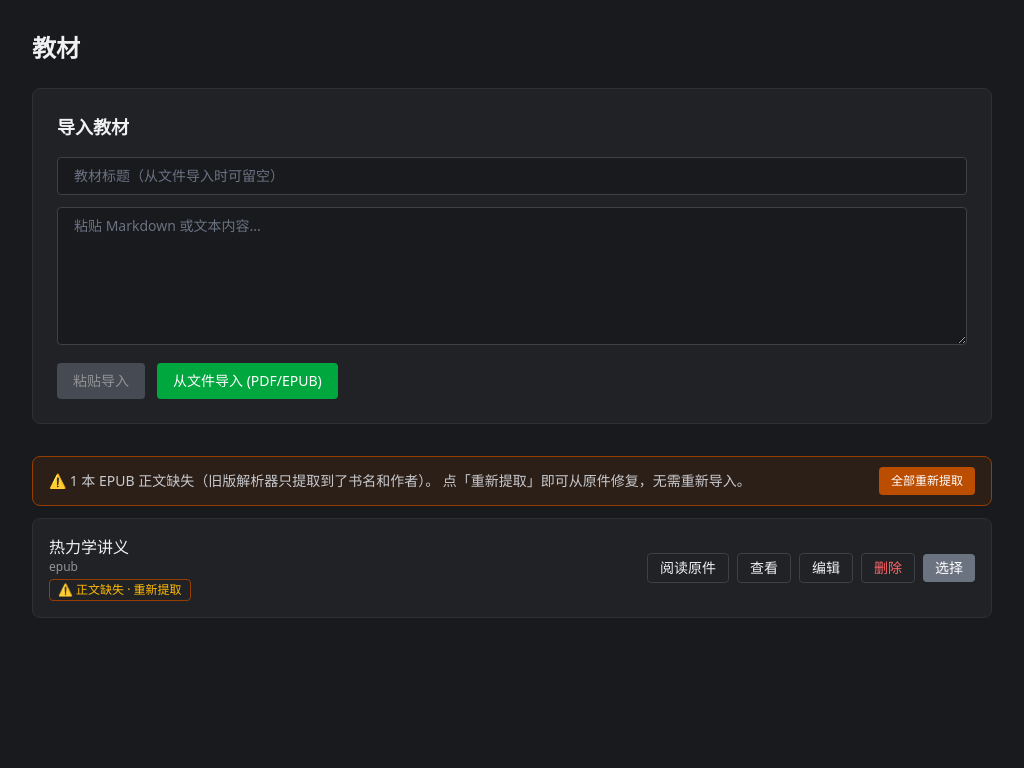
Test: TextbooksView — EPUB repair › flags missing EPUB bodies and repairs one on demand
Expected: the text "⚠️ 1 本 EPUB 正文缺失（旧版解析器只提取到了书名和作者）。 点「重新提取」即可从原件修复，无需重新导入。" is shown, [49, 471, 751, 491]
Click the button "⚠️ 正文缺失 · 重新提取": (120, 590) [49, 579, 191, 601]
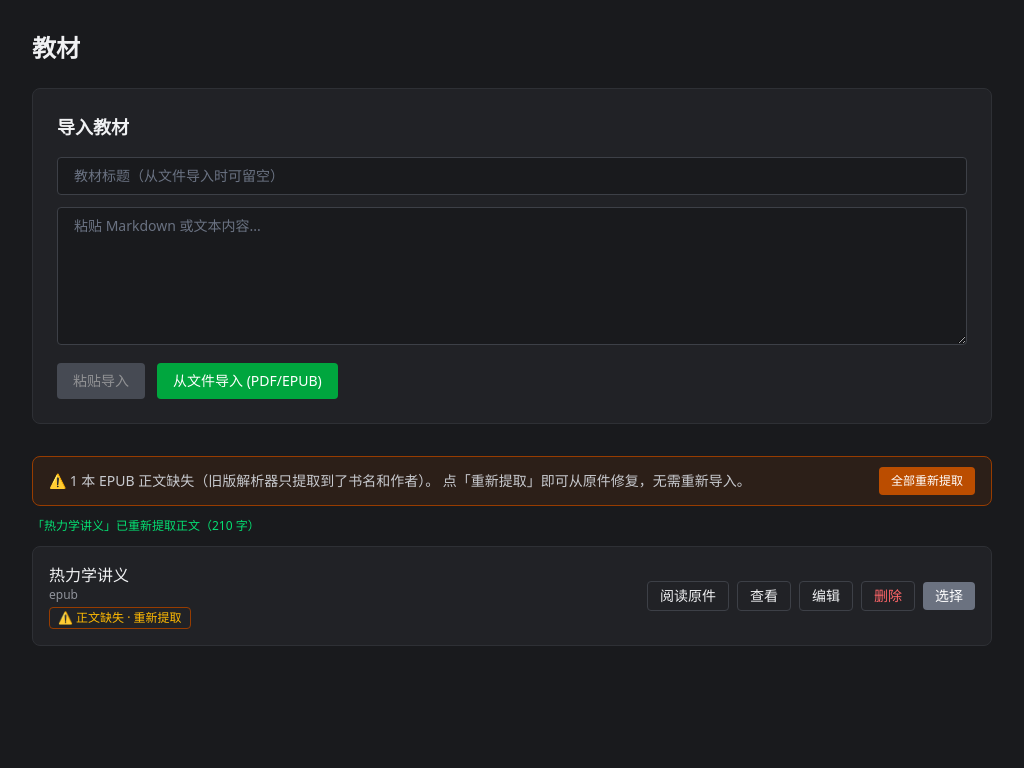
Expected: the text "「热力学讲义」已重新提取正文（210 字）" is shown, [32, 517, 260, 534]
